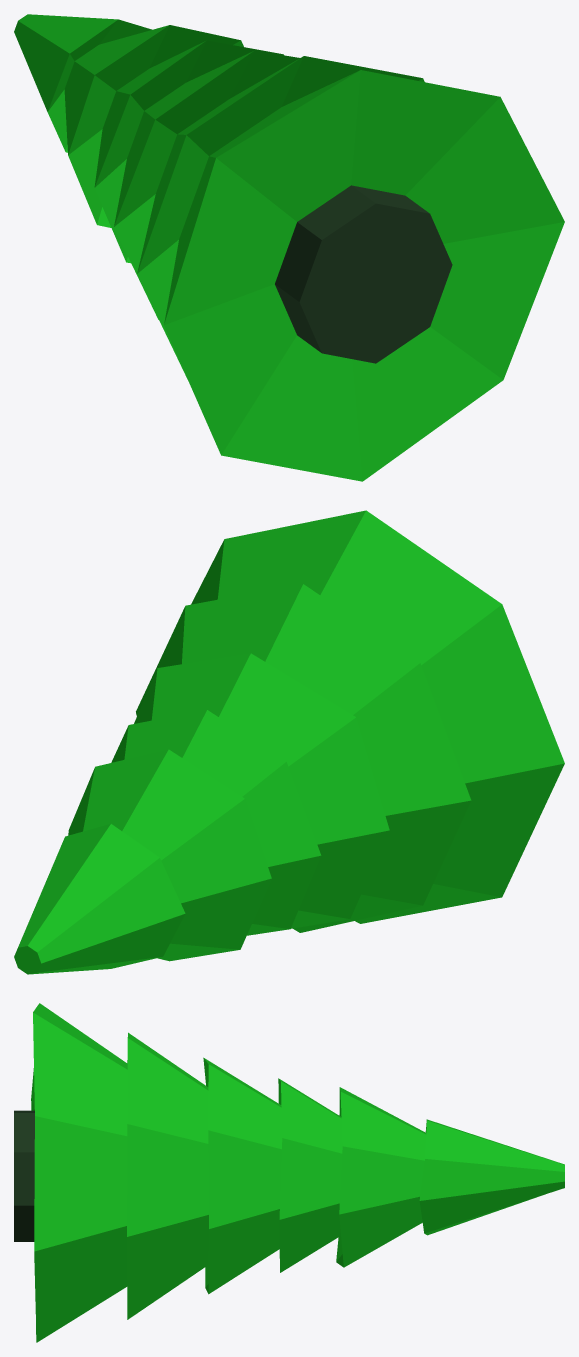
Rendered from Pine_5.fbx.
The picture shows the model from 3 angles, top to bottom: view 1: azimuth 30°, elevation 25°; view 2: azimuth 150°, elevation 25°; view 3: azimuth 270°, elevation 25°; orthographic projection. The views are drawn at different scales.
Parts seen in each view (by area): view 1: Pine_5; view 2: Pine_5; view 3: Pine_5.
Boxes of the visible parts, x1,y1,x2,y2 form: Pine_5: (14,14,564,481); Pine_5: (14,510,564,974); Pine_5: (14,1003,564,1342).
Size of the model in its own units: 107 by 105 by 160.
